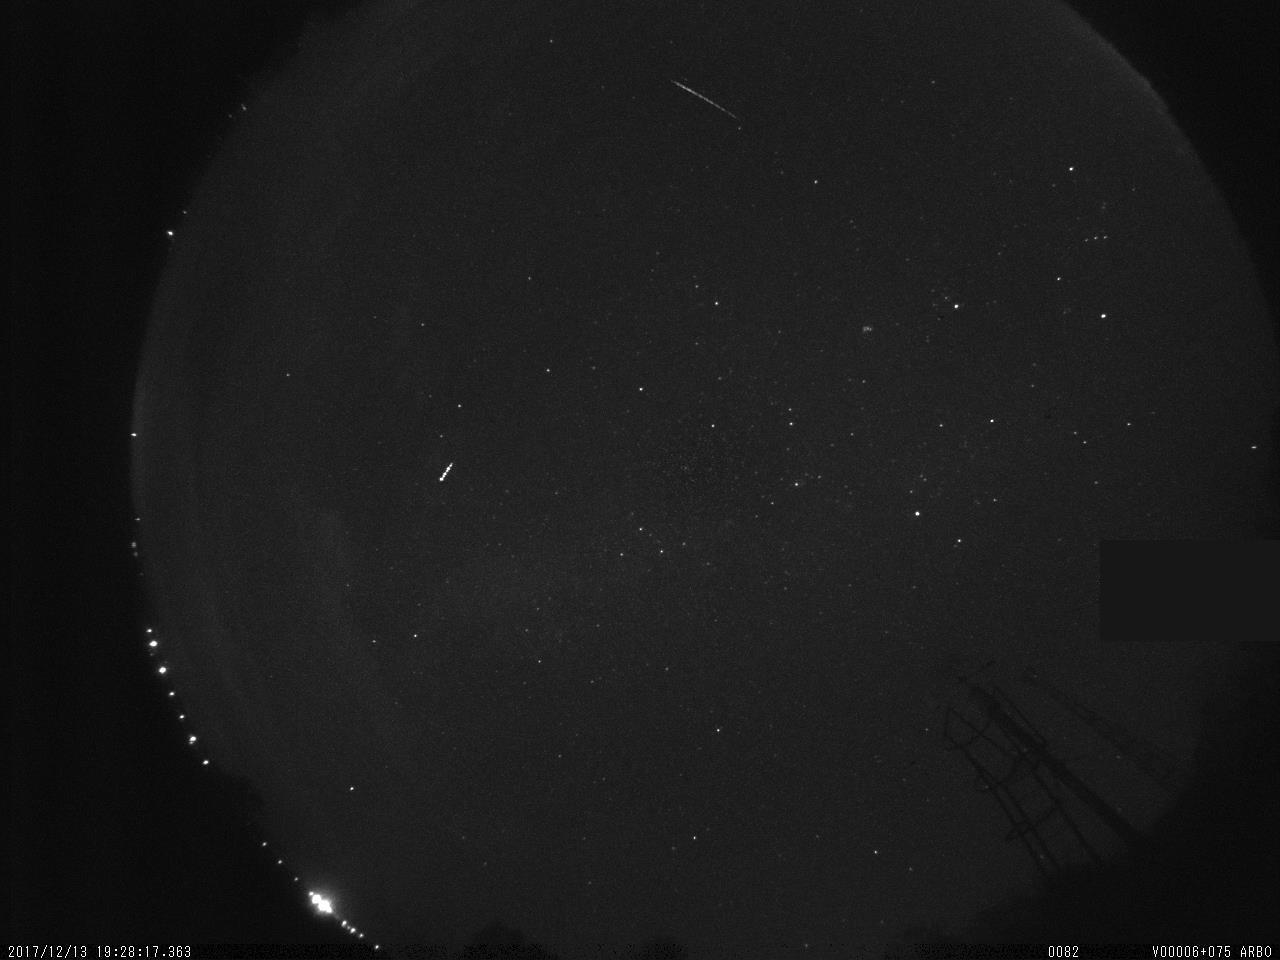meteor: (661, 75, 756, 136)
satelite: (438, 454, 456, 488)
